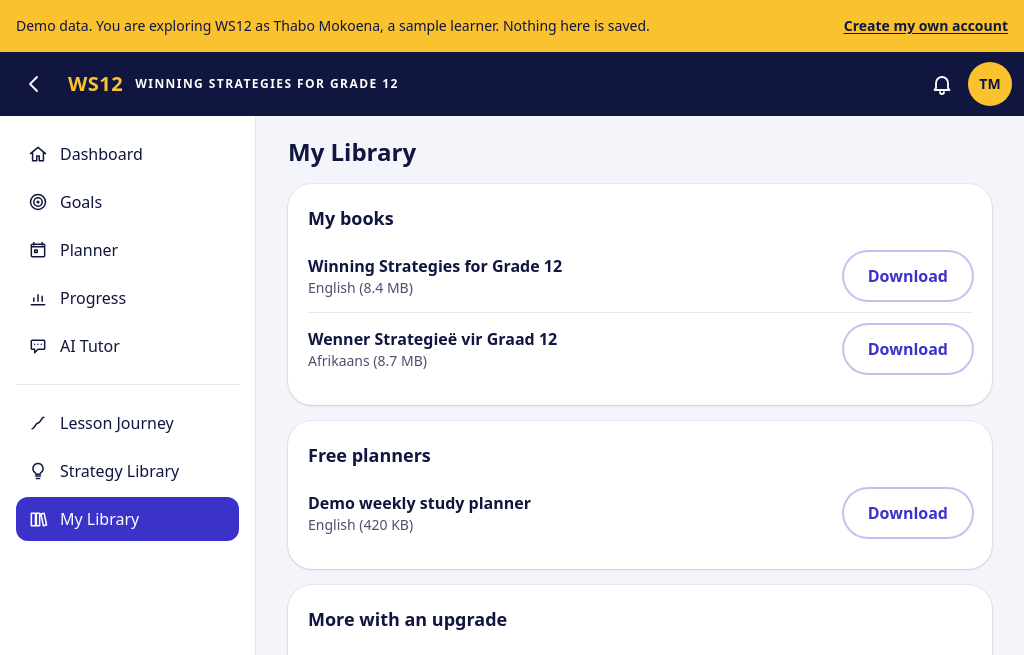
Scenario: My Library › switches downloads off in the demo
The image size is (1024, 655).
Click the button with aria-label "Download Winning Strategies for Grade 12" at (908, 276), box 844,252 -> 972,300
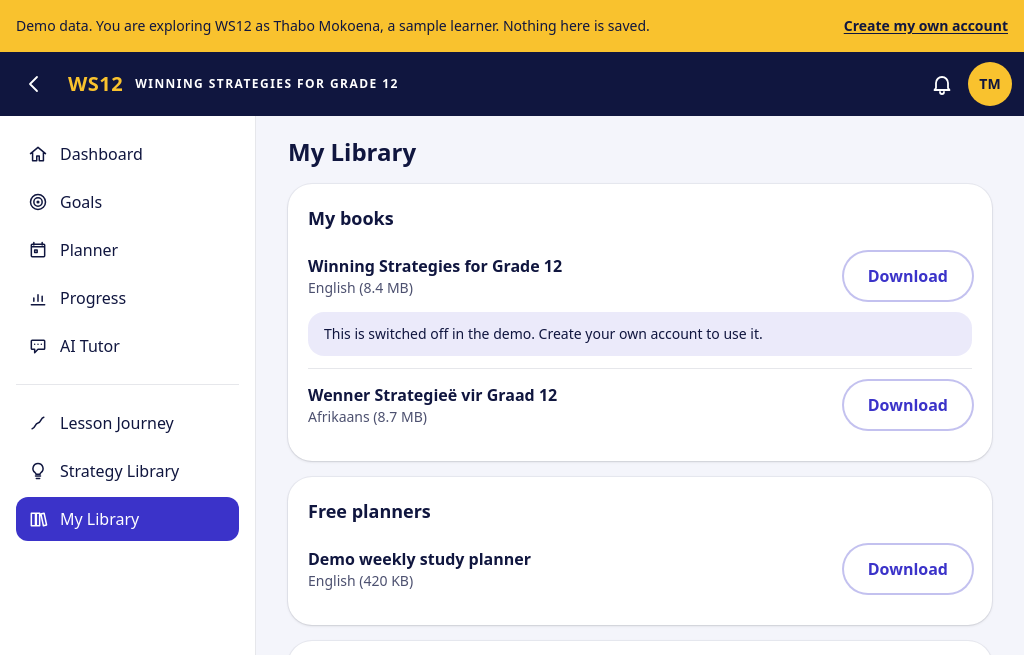
Check: the text "This is switched off in the demo. Create your own account to use it." is shown, box 308,312 -> 972,356
